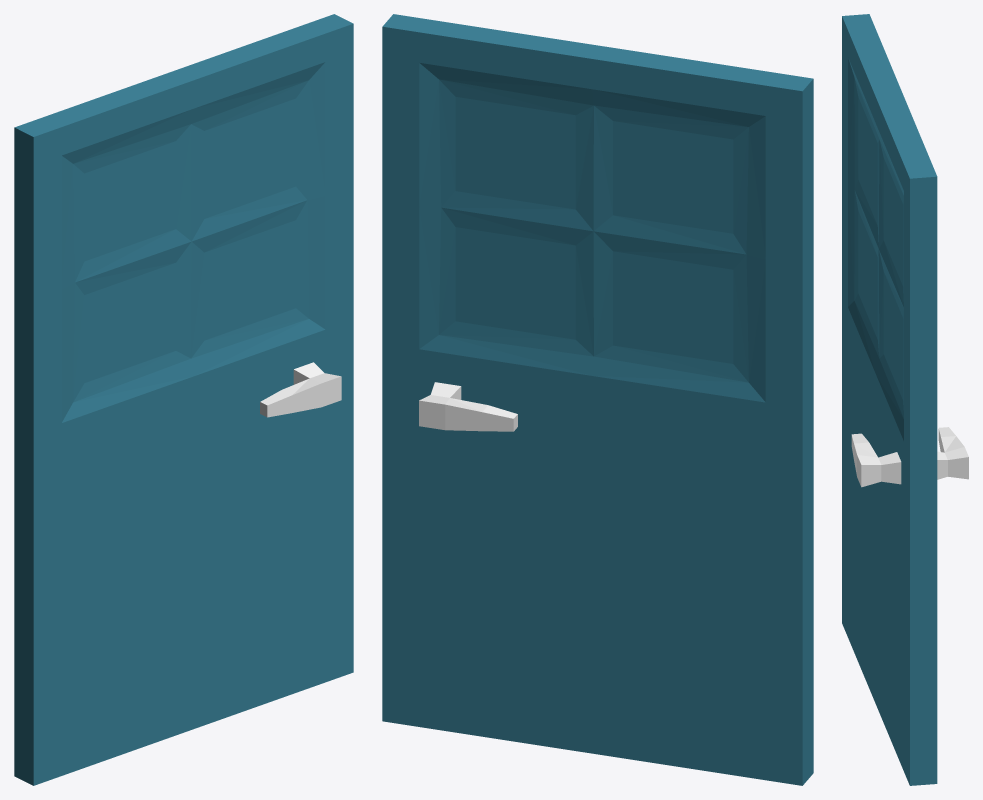
The model's file is door.obj.
3 views of the same model, side by side, from view 1: azimuth 30°, elevation 25°; view 2: azimuth 150°, elevation 25°; view 3: azimuth 270°, elevation 25° (orthographic). The views are drawn at different scales.
Parts seen in each view (by area): view 1: Door_Cube.002; view 2: Door_Cube.002; view 3: Door_Cube.002.
Part boxes in pixels (x1,y1,x2,y2): Door_Cube.002: (14, 14, 353, 785); Door_Cube.002: (382, 14, 813, 785); Door_Cube.002: (842, 14, 968, 785).
Bounding box in the file's own units: 0.698 × 1.2 × 0.2273.
1 material, 1 textured.
